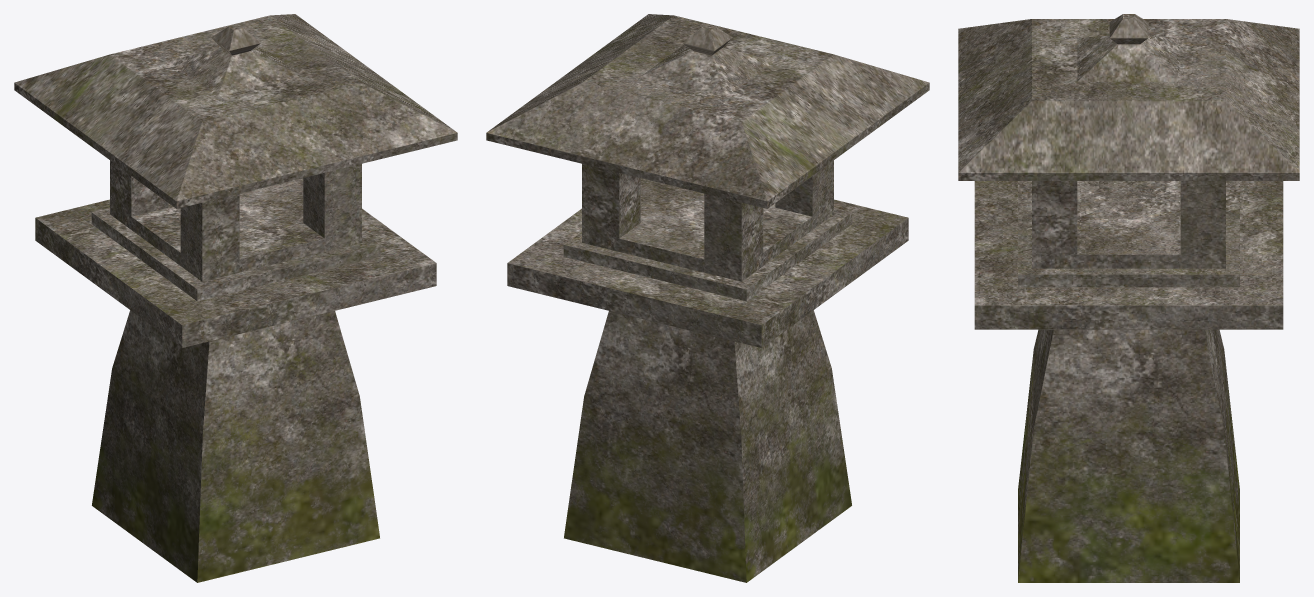
File: NNJ0310029.fbx
The picture shows the model from 3 angles, left to right: view 1: azimuth 30°, elevation 25°; view 2: azimuth 150°, elevation 25°; view 3: azimuth 270°, elevation 25°; orthographic projection. The views are drawn at different scales.
Parts seen in each view (by area): view 1: smNNJ0310029; view 2: smNNJ0310029; view 3: smNNJ0310029.
Boxes of the visible parts, x1=… form: smNNJ0310029: x1=14, y1=14, x2=457, y2=582; smNNJ0310029: x1=486, y1=14, x2=929, y2=582; smNNJ0310029: x1=958, y1=14, x2=1299, y2=582.
Bounding box in the file's own units: 135 × 226 × 135.
Materials: 1 (1 with a texture image).
